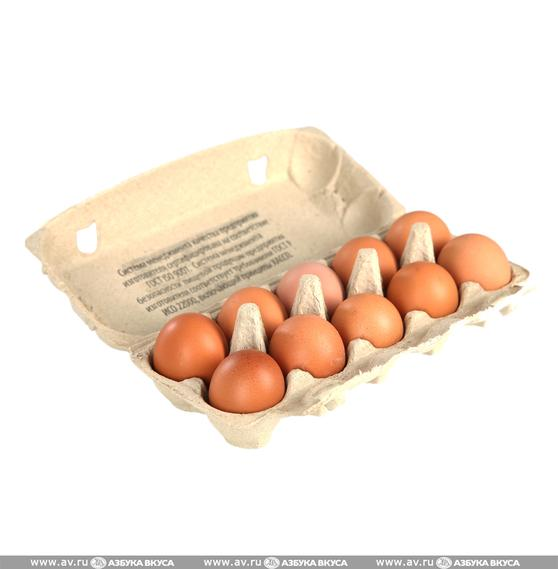egg: (205, 347, 290, 416), (263, 308, 344, 378), (335, 293, 409, 356), (389, 262, 459, 322), (445, 234, 514, 292)
